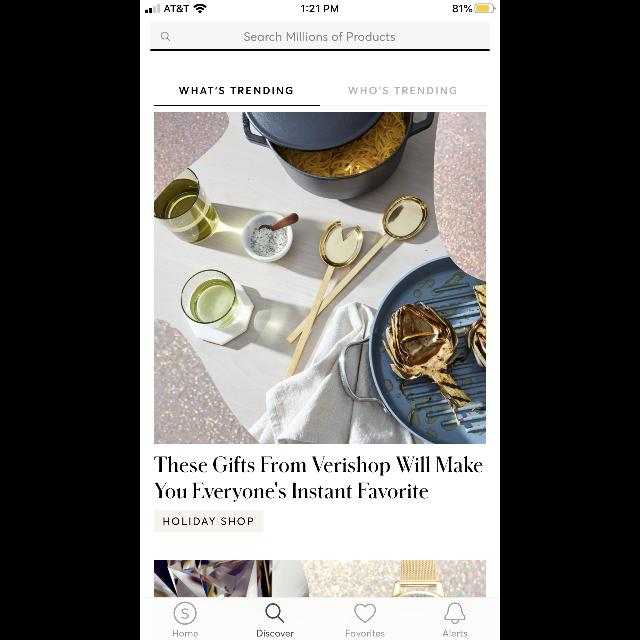icon: (444, 602, 466, 624), (354, 603, 376, 623), (266, 603, 284, 623), (161, 32, 171, 42)
image: (154, 112, 486, 444), (154, 560, 486, 598), (174, 602, 196, 624)
input: (150, 22, 490, 52)
text: (154, 456, 483, 502), (244, 32, 396, 42), (179, 87, 293, 95), (348, 87, 456, 95), (346, 630, 384, 636), (258, 630, 294, 636), (174, 630, 198, 636), (443, 630, 467, 636)
textbutton: (154, 510, 264, 532)
uppertaskbar: (140, 0, 500, 14)
